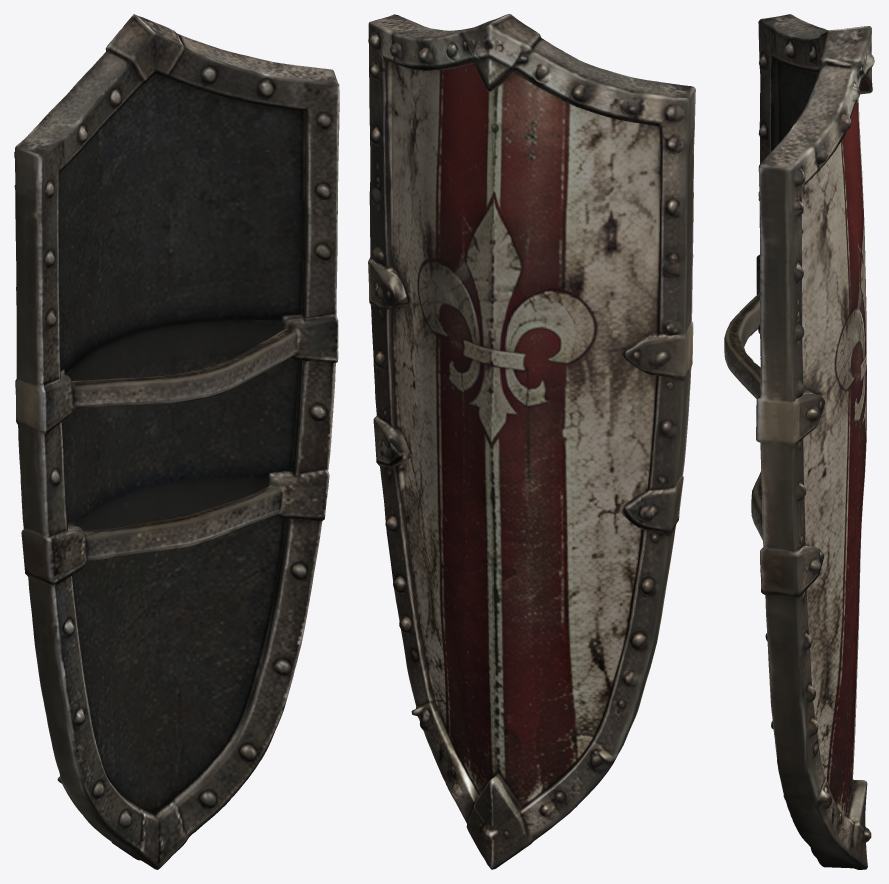
File: tower_red_stripe.glb
3 views of the same model, side by side, from view 1: azimuth 30°, elevation 25°; view 2: azimuth 150°, elevation 25°; view 3: azimuth 270°, elevation 25° (orthographic).
Parts seen in each view (by area): view 1: tower_red_stripe; view 2: tower_red_stripe; view 3: tower_red_stripe.
Boxes of the visible parts, bbox=[...] form: tower_red_stripe: bbox=[14, 14, 339, 869]; tower_red_stripe: bbox=[368, 14, 695, 869]; tower_red_stripe: bbox=[724, 14, 874, 869].
Bounding box in the file's own units: 0.4448 × 1.12 × 0.1819.
1 material, 1 textured.
